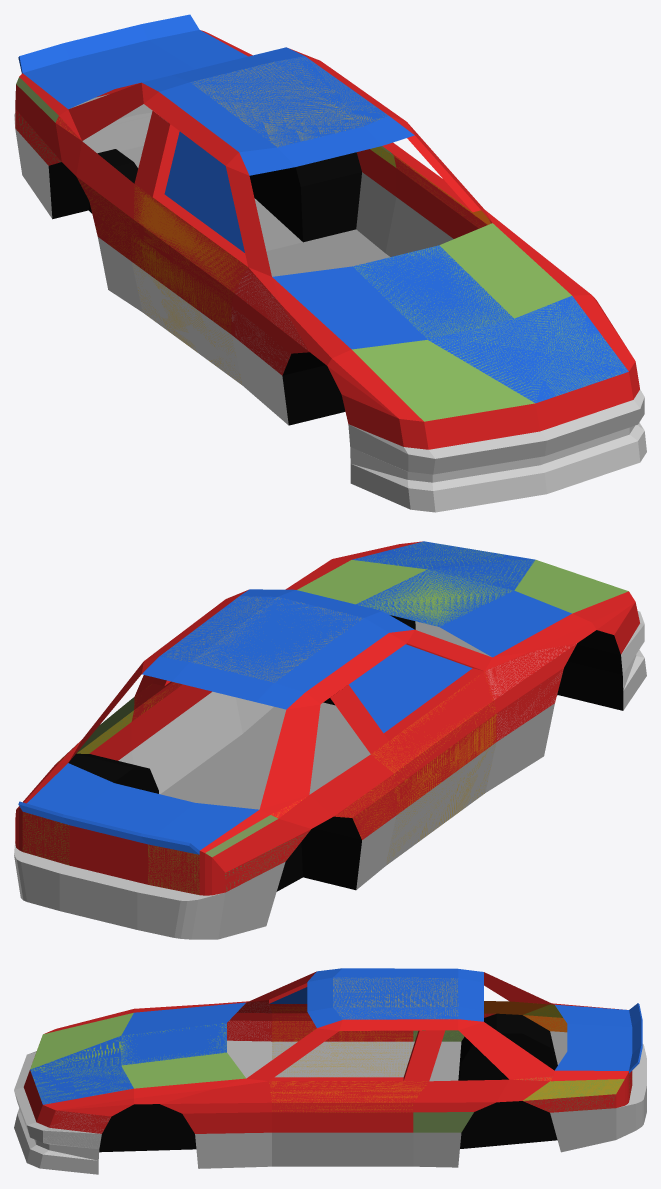
3 views of the same model, one above another, from view 1: azimuth 30°, elevation 25°; view 2: azimuth 150°, elevation 25°; view 3: azimuth 270°, elevation 25° (orthographic). The views are drawn at different scales.
Parts seen in each view (by area): view 1: O15E28A; view 2: O15E28A; view 3: O15E28A.
Boxes of the visible parts, x1,y1,x2,y2 form: O15E28A: (14,14,646,512); O15E28A: (14,541,646,939); O15E28A: (14,968,646,1174).
Size of the model in its own units: 1.73 by 1.16 by 4.93.
